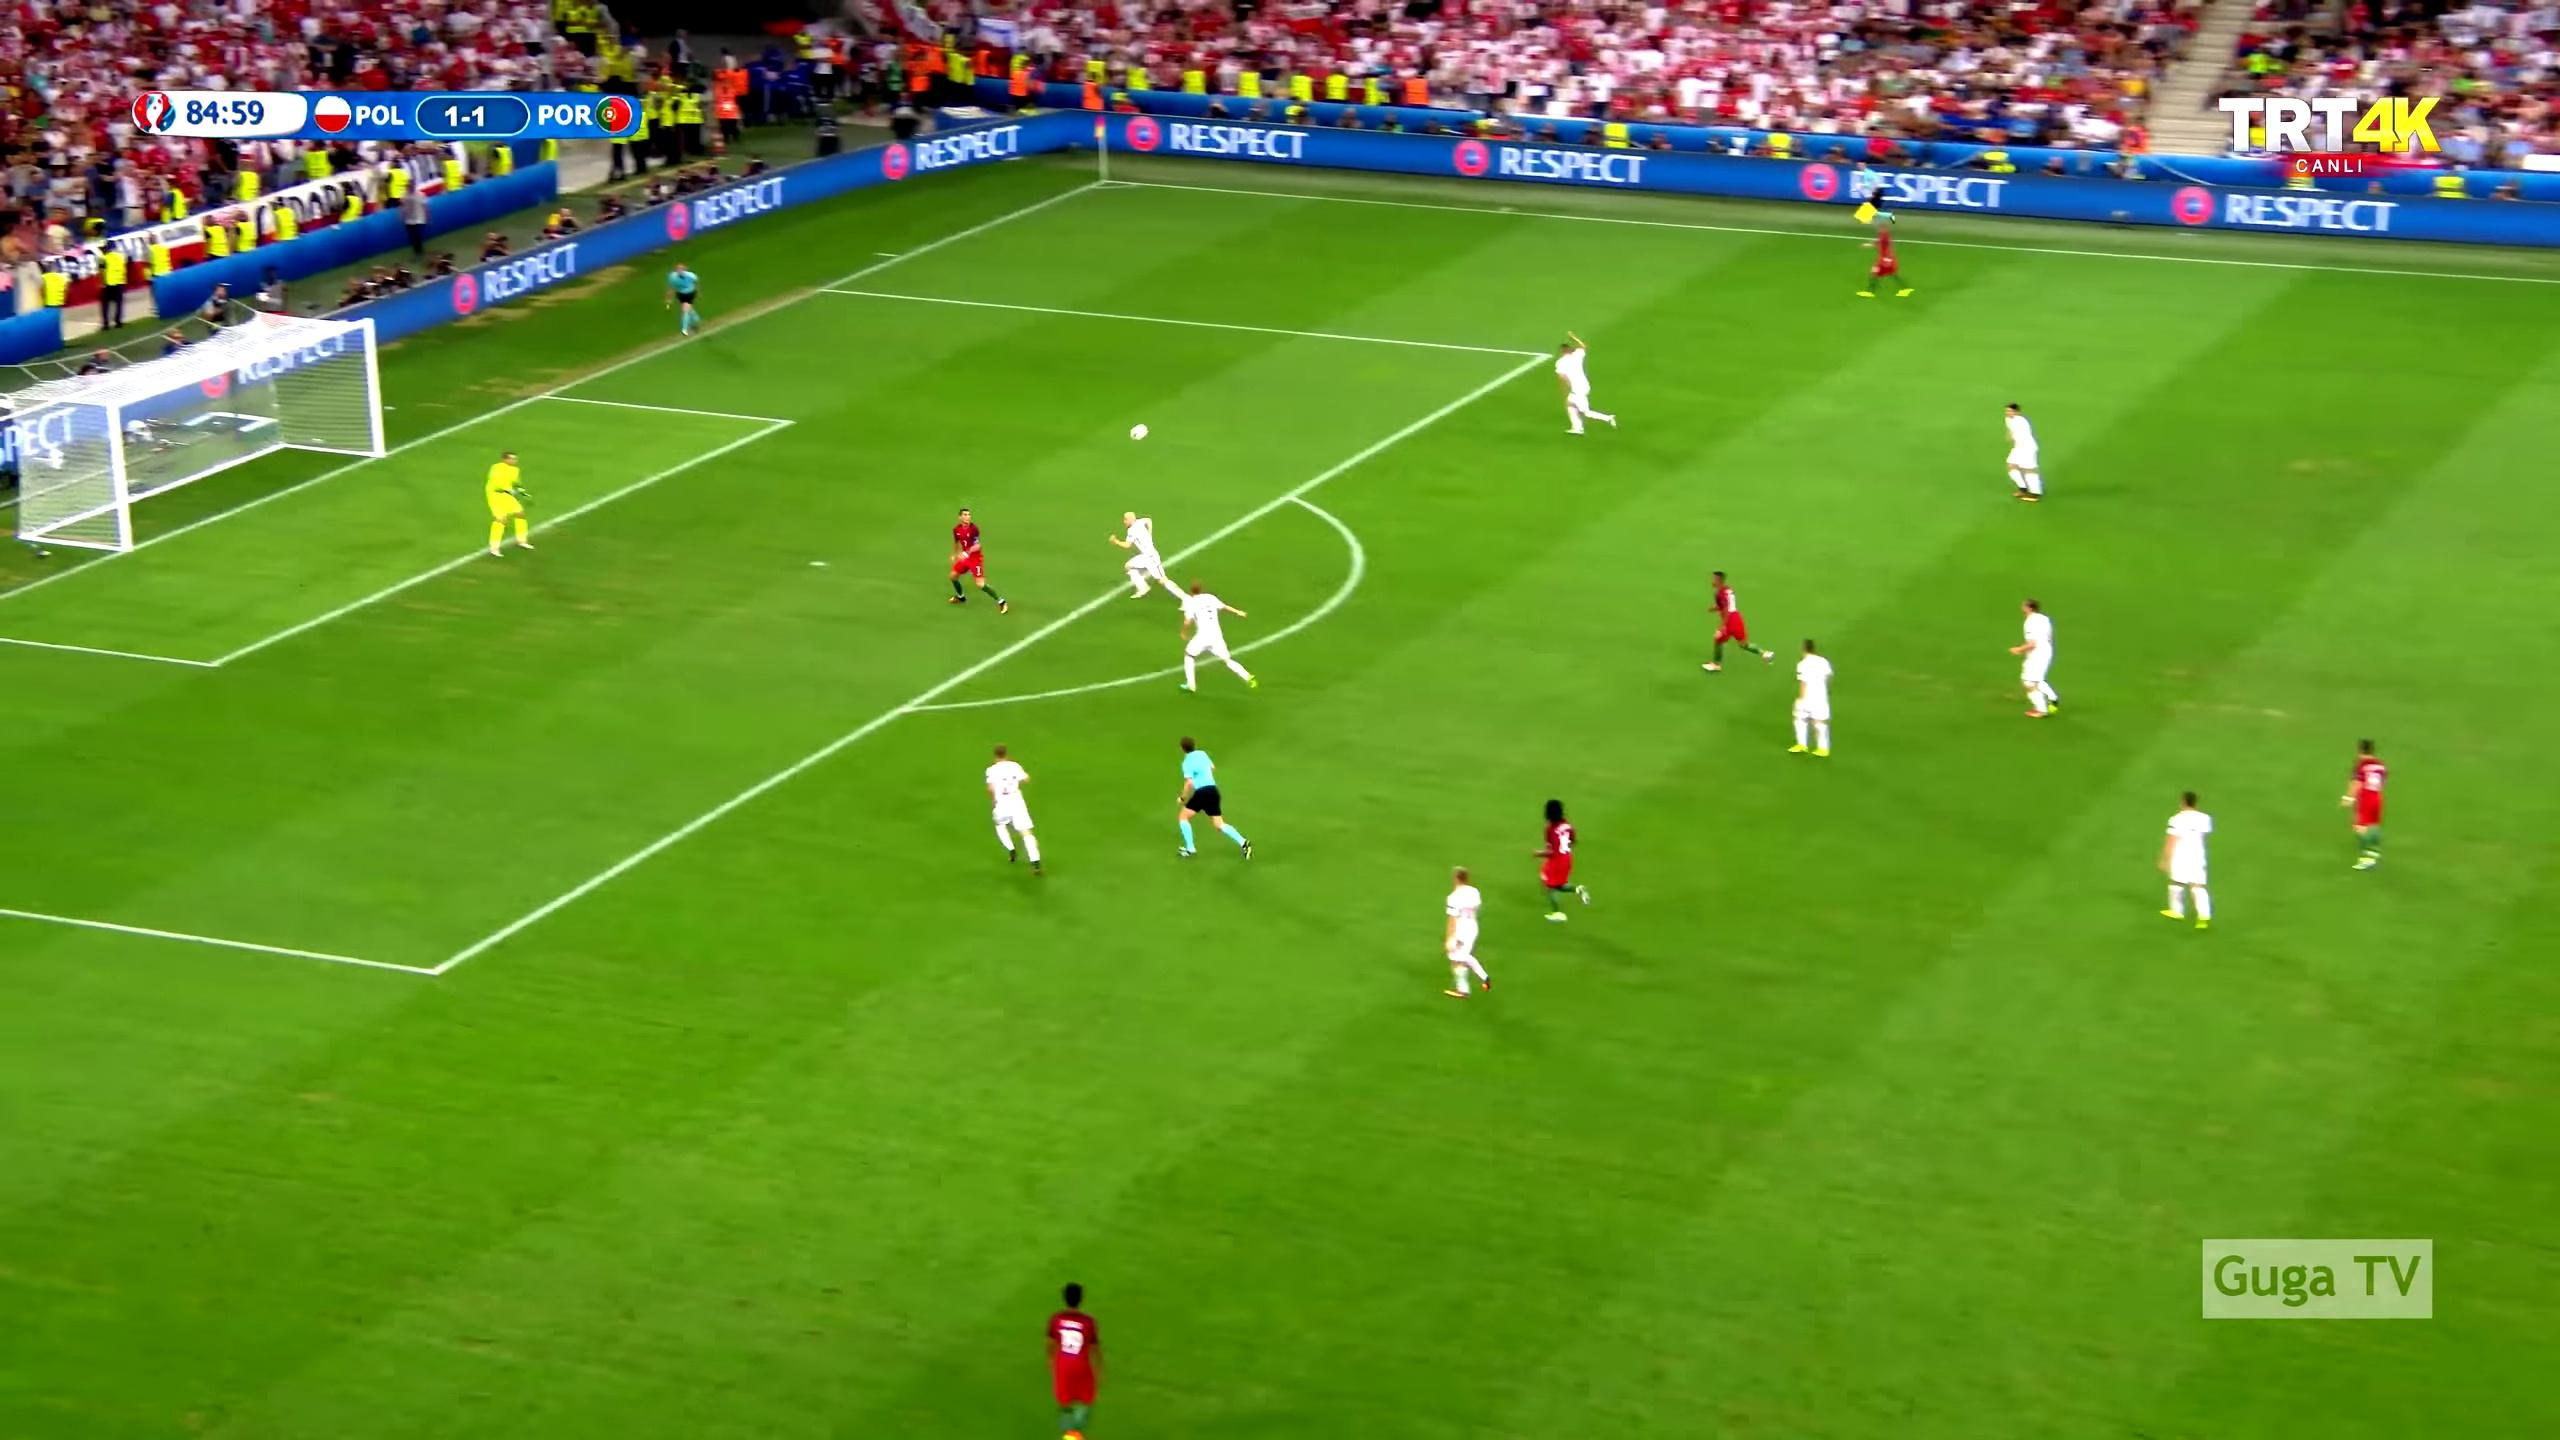ball: (1127, 421, 1152, 446)
goalkeeper: (481, 446, 539, 562)
player: (1039, 1276, 1114, 1440), (1177, 577, 1264, 696), (976, 739, 1048, 875), (2153, 787, 2220, 933), (1106, 509, 1196, 613), (1699, 564, 1779, 679), (1526, 794, 1594, 924), (1439, 859, 1495, 1009), (1546, 329, 1623, 438), (2335, 733, 2393, 876), (946, 506, 1013, 617), (2007, 594, 2064, 723), (1785, 633, 1839, 764), (1993, 401, 2049, 509)
referee: (1169, 733, 1257, 868), (1847, 157, 1899, 236), (661, 260, 707, 344)
